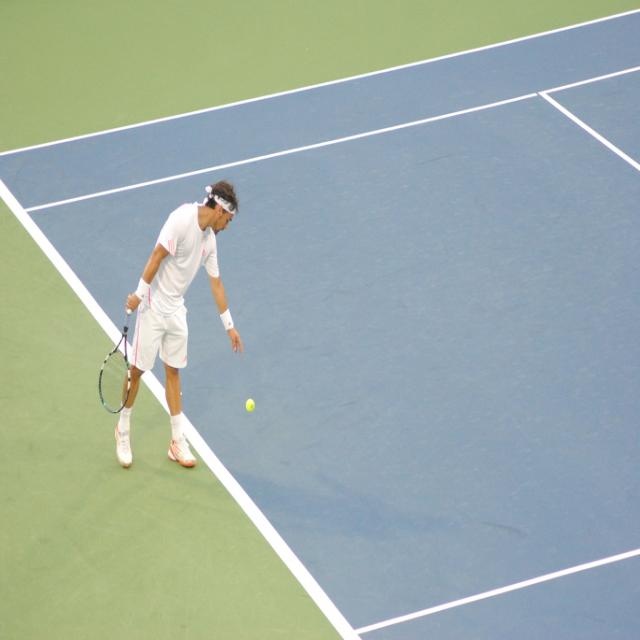Tennis-Ball: (244, 395, 256, 416)
